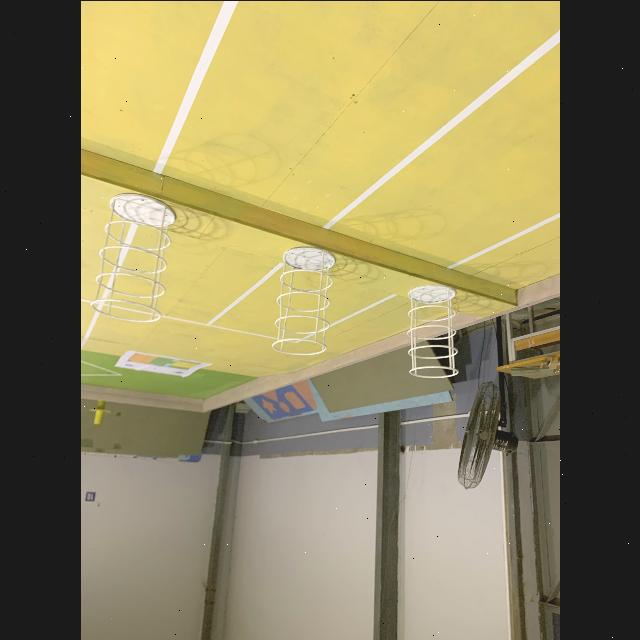S: (90, 191, 176, 323), (270, 244, 334, 356), (406, 282, 462, 378)
